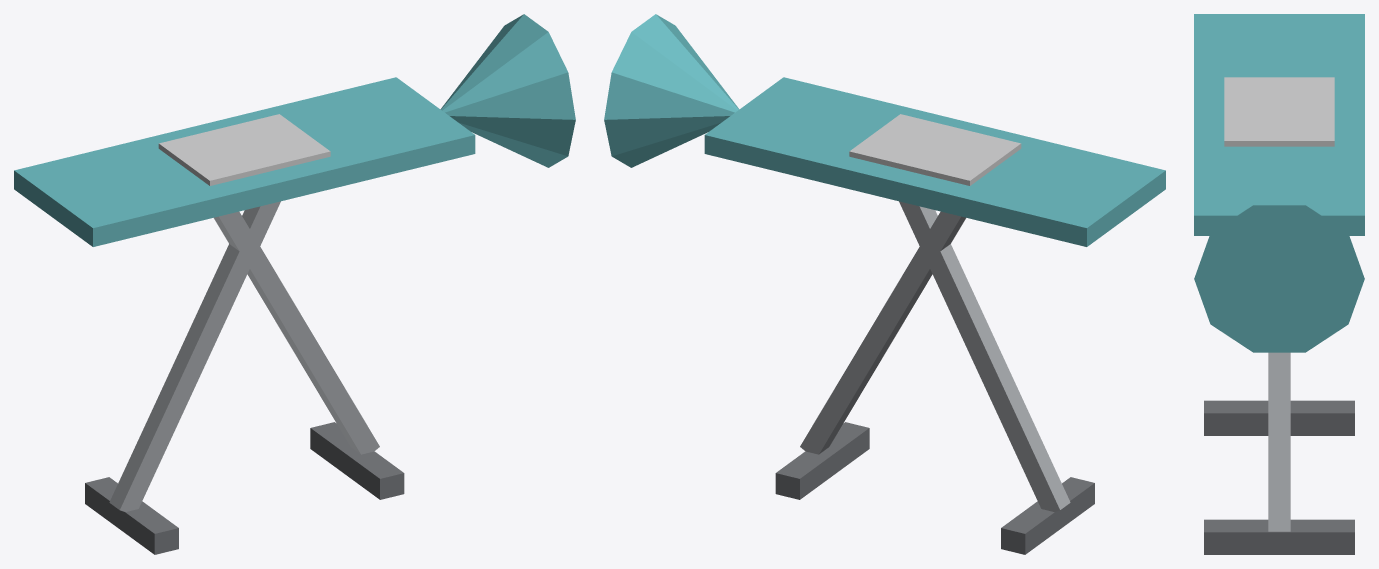
The model's file is eld_tabua_passar.glb.
The picture shows the model from 3 angles, left to right: view 1: azimuth 30°, elevation 25°; view 2: azimuth 150°, elevation 25°; view 3: azimuth 270°, elevation 25°; orthographic projection. The views are drawn at different scales.
Visible parts, largest first — view 1: ELD_TABUA_PASSAR_v01; view 2: ELD_TABUA_PASSAR_v01; view 3: ELD_TABUA_PASSAR_v01.
Boxes of the visible parts, left/top/right/bottom form: ELD_TABUA_PASSAR_v01: left=14, top=14, right=575, bottom=554; ELD_TABUA_PASSAR_v01: left=604, top=14, right=1165, bottom=554; ELD_TABUA_PASSAR_v01: left=1194, top=14, right=1364, bottom=554.
Size of the model in its own units: 1.2 by 0.9617 by 0.34.
